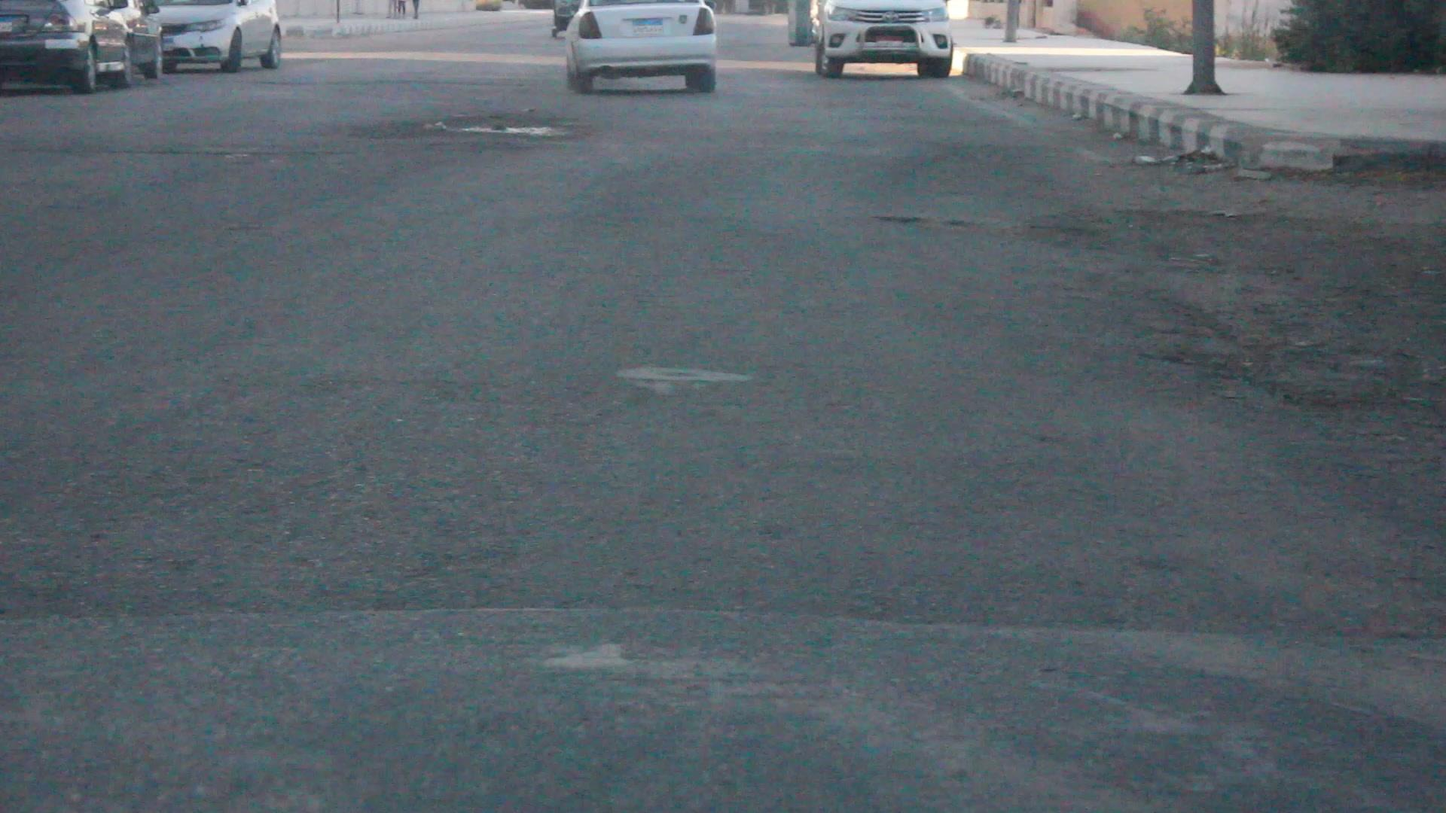Bump: (0, 607, 1445, 812)
Pothole: (987, 210, 1445, 408), (380, 115, 578, 139)
